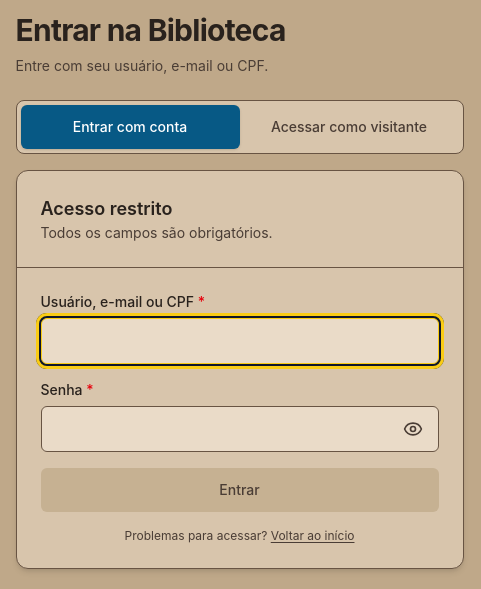
Scenario: Guest school autocomplete › keeps access disabled until a suggestion is selected and announces empty results
Click the tab "Acessar como visitante": {"x": 349, "y": 127} [240, 105, 458, 149]
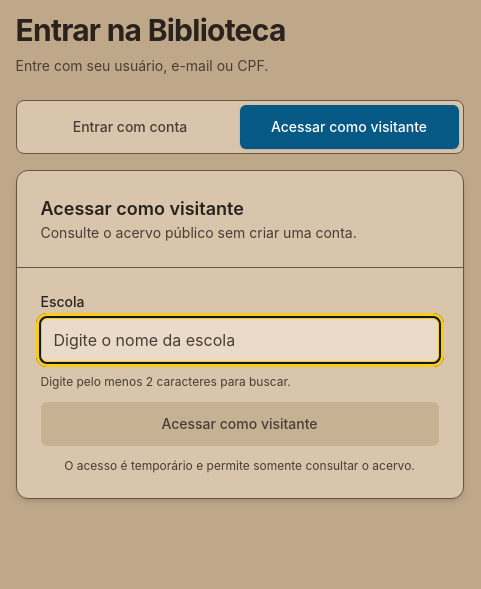
Expected: the button with aria-label "Acessar o acervo como visitante" is disabled, [40, 402, 438, 446]
In the dropdown labelled "Escola": {"x": 240, "y": 340} [40, 318, 438, 362], type "inexistente"
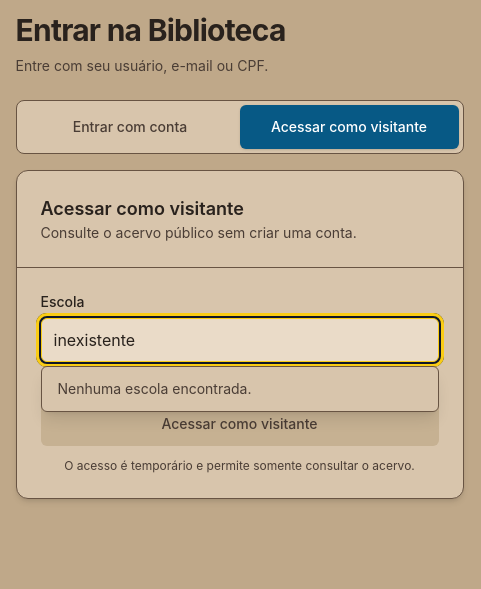
Expected: the button with aria-label "Acessar o acervo como visitante" is disabled, [40, 402, 438, 446]
Now the option "Nenhuma escola encontrada." is shown, box [58, 380, 252, 397]
Press Escape in the dropdown labelled "Escola", box [40, 318, 438, 362]
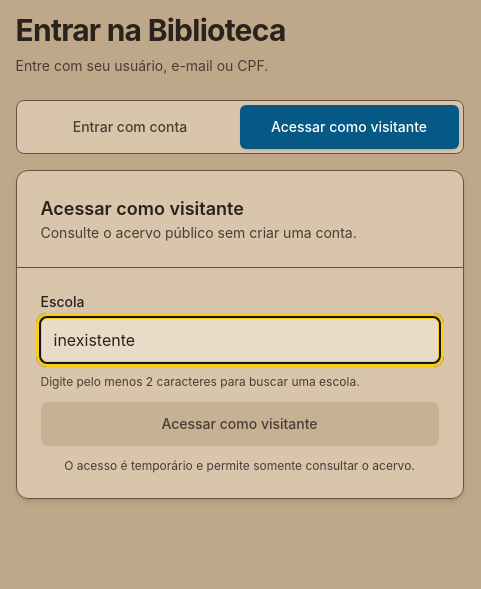
Now the list is gone
